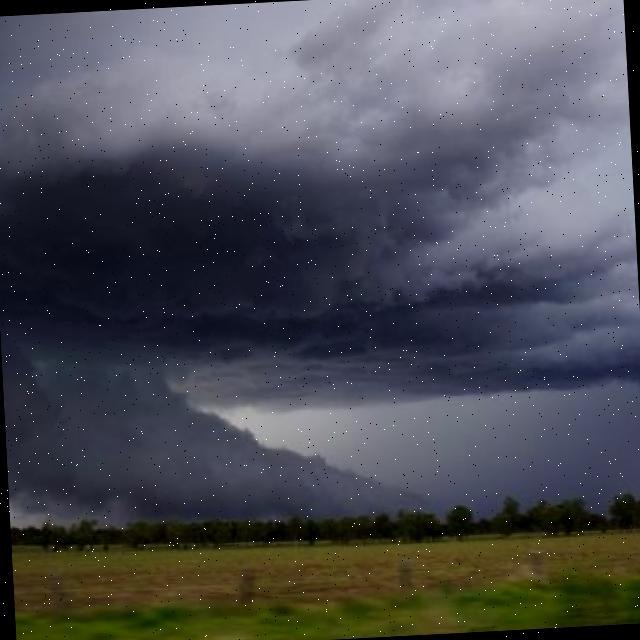Cb: (1, 14, 640, 512)
